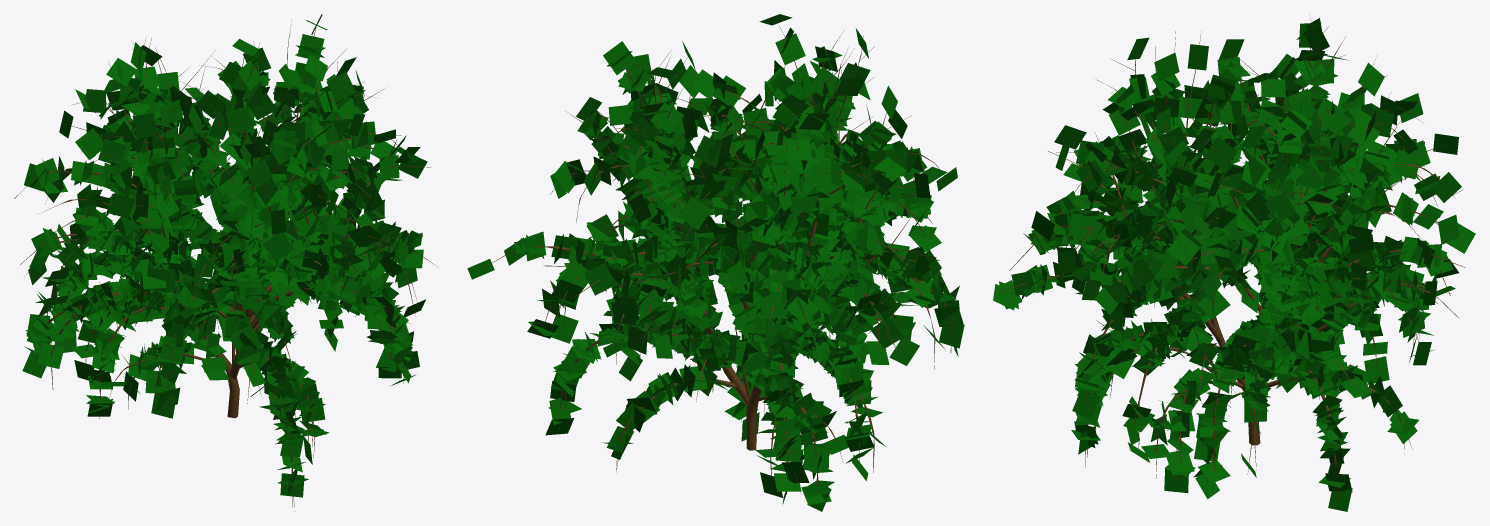
Rendered from tree.fbx.
The picture shows the model from 3 angles, left to right: view 1: azimuth 30°, elevation 25°; view 2: azimuth 150°, elevation 25°; view 3: azimuth 270°, elevation 25°; orthographic projection. The views are drawn at different scales.
Visible parts, largest first — view 1: tree.035; view 2: tree.035; view 3: tree.035.
Boxes of the visible parts, x1=… form: tree.035: x1=14, y1=14, x2=438, y2=511; tree.035: x1=467, y1=14, x2=964, y2=511; tree.035: x1=993, y1=14, x2=1475, y2=511.
Size of the model in its own units: 6.53 by 6.39 by 6.48.
